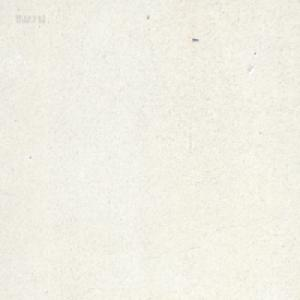Nail: (192, 36, 198, 41)
